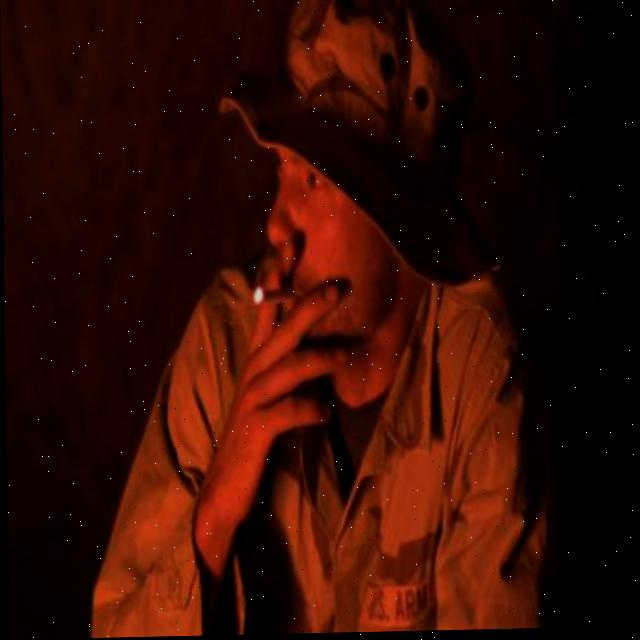cigarette: (252, 286, 297, 308)
